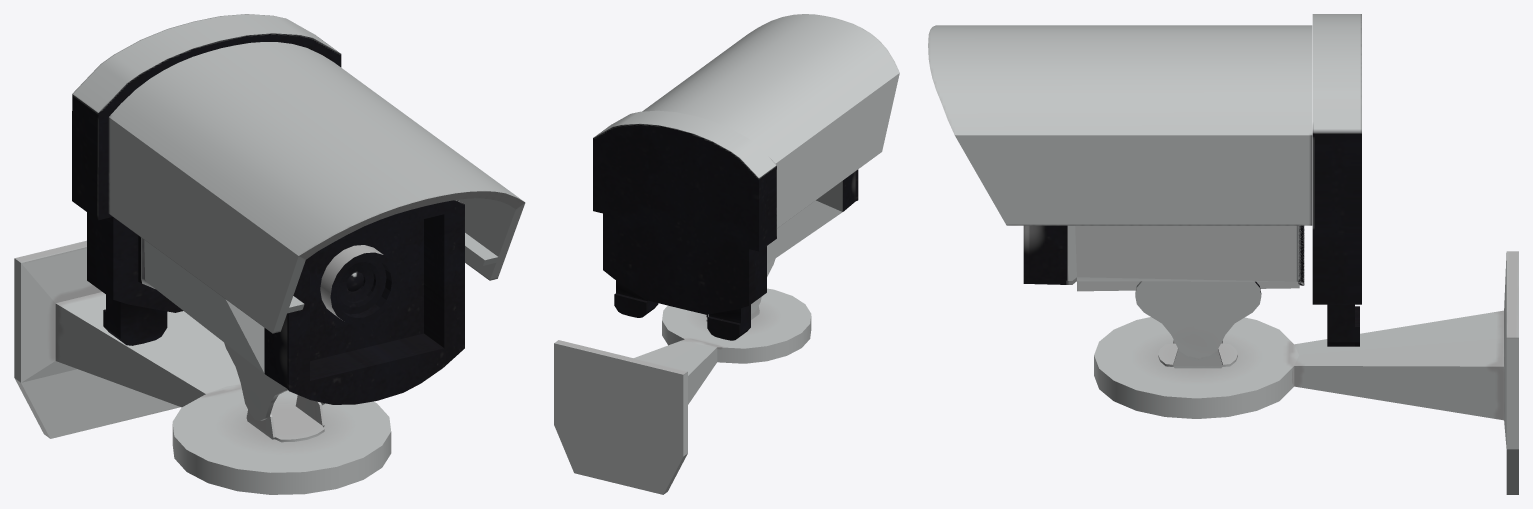
File: kamera.fbx
3 views of the same model, side by side, from view 1: azimuth 30°, elevation 25°; view 2: azimuth 150°, elevation 25°; view 3: azimuth 270°, elevation 25° (orthographic). The views are drawn at different scales.
Visible parts, largest first — view 1: pPlane2; view 2: pPlane2; view 3: pPlane2.
Part boxes in pixels (box(x1,y1,x2,y2)): pPlane2: box(14, 14, 525, 494); pPlane2: box(554, 14, 899, 494); pPlane2: box(928, 14, 1518, 494).
Bounding box in the file's own units: 241 × 433 × 542.
